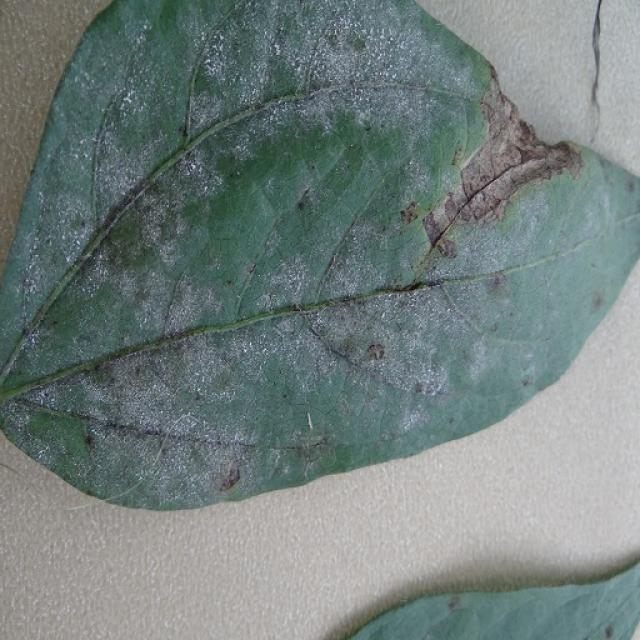Blackgram: (0, 8, 639, 508)
Powdery_Mildew: (24, 313, 341, 452), (173, 5, 441, 140), (456, 182, 627, 353), (281, 84, 470, 235), (87, 150, 215, 303), (144, 90, 318, 192), (436, 96, 562, 230), (439, 129, 579, 240), (310, 157, 401, 304), (122, 1, 212, 147), (303, 288, 445, 380), (108, 382, 232, 484), (123, 346, 243, 438), (20, 150, 103, 283), (234, 180, 311, 316), (299, 309, 438, 382), (94, 79, 162, 215), (305, 6, 425, 77), (212, 317, 323, 391), (3, 404, 100, 485), (315, 32, 421, 99), (450, 203, 539, 279), (193, 10, 271, 96), (371, 328, 454, 397), (290, 5, 341, 104), (132, 310, 241, 354), (14, 369, 98, 423), (295, 284, 444, 314), (160, 265, 218, 339), (149, 406, 246, 449), (474, 79, 527, 157), (465, 130, 524, 195), (438, 288, 499, 349), (422, 179, 474, 244), (232, 238, 271, 317), (310, 321, 370, 372), (187, 355, 248, 404), (267, 246, 320, 297), (273, 432, 336, 471), (313, 237, 350, 303), (486, 326, 568, 347), (298, 25, 318, 100), (463, 338, 499, 378), (552, 145, 585, 180), (200, 41, 229, 79), (175, 151, 208, 183), (601, 208, 640, 232), (127, 20, 153, 53), (422, 85, 476, 99), (373, 301, 401, 326), (307, 321, 330, 346), (519, 362, 538, 388), (338, 394, 356, 420), (271, 319, 292, 340), (120, 88, 138, 107), (271, 38, 284, 56)
